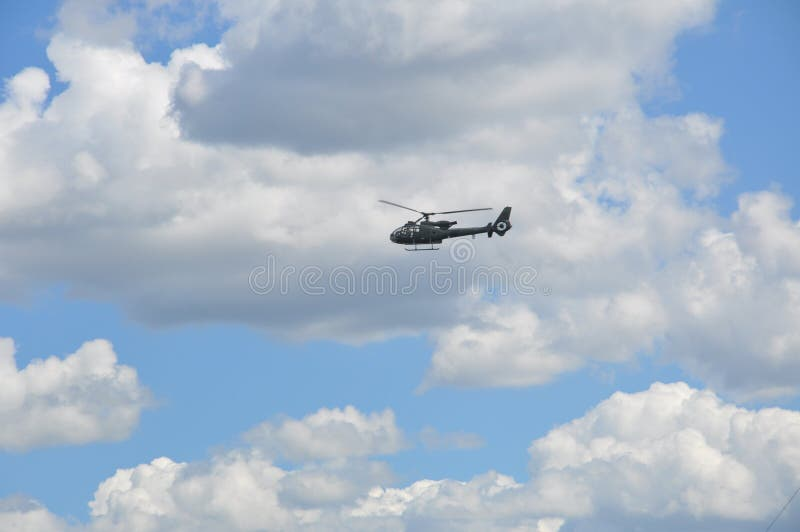helicopter: (363, 170, 534, 266)
